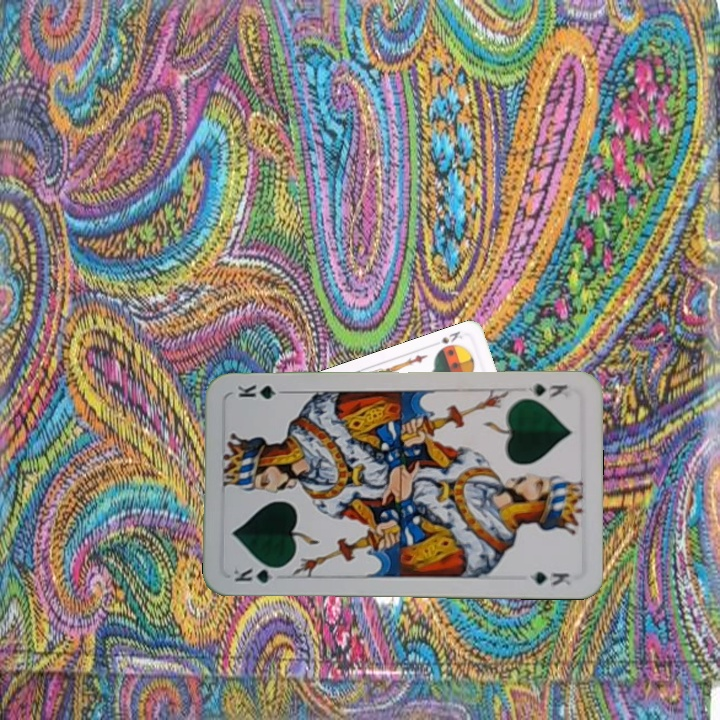GK: (229, 563, 286, 586), (524, 379, 570, 401)
SK: (437, 327, 465, 346)
